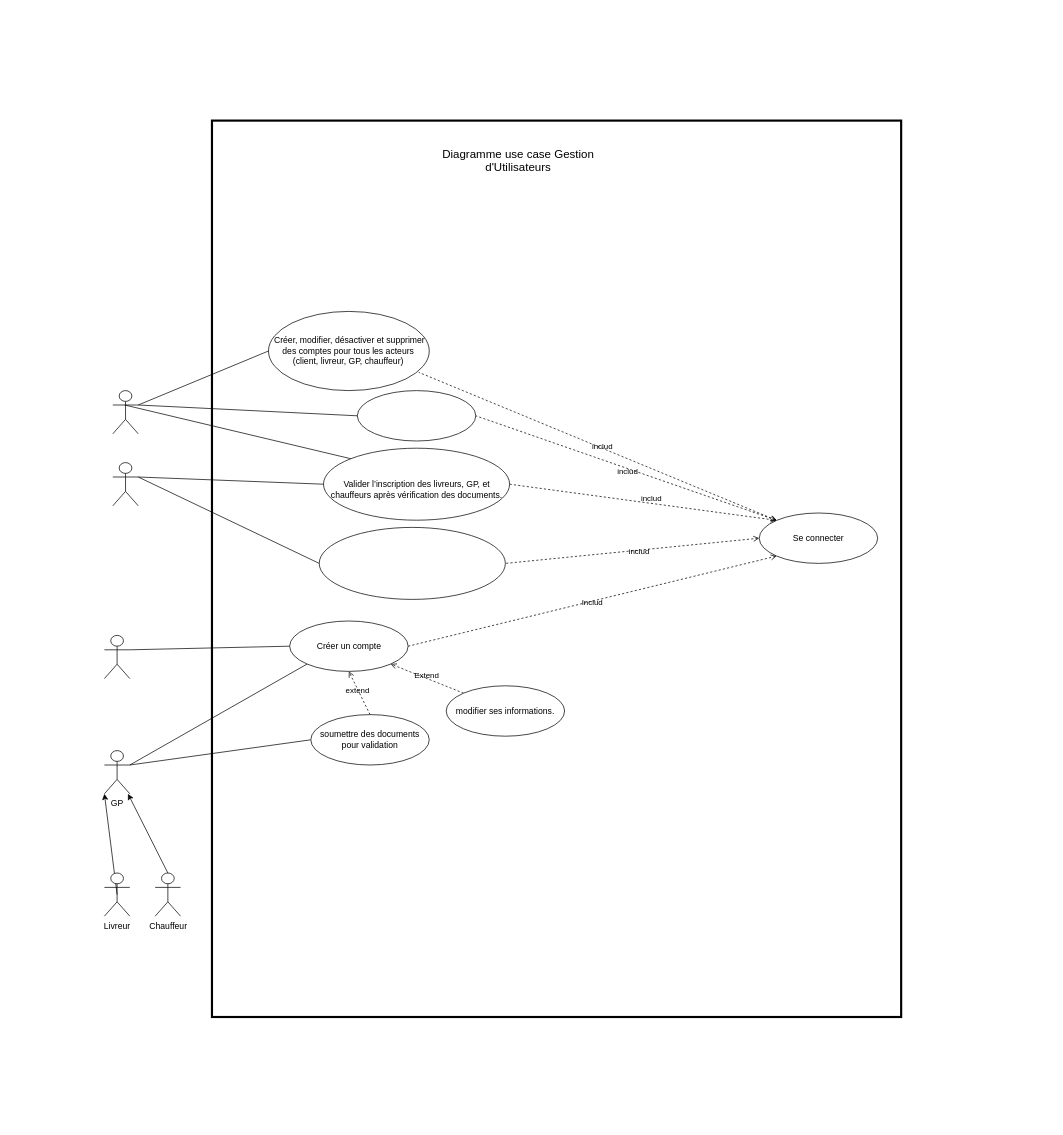
The diagram is 1063 pixels wide and 1135 high, and some of its shapes have lost their labels. Here are the shapes that lost their labels. From the top down, the centre of each, then its label:
At pixel 125 412: "Admin".
At pixel 416 415: "Assigner des rôles et permissions à chaque utilisateur.".
At pixel 125 484: "Gestionnaire".
At pixel 412 563: "Activer ou désactiver les utilisateurs sans droit de création de rôle.".
At pixel 117 657: "Client".
